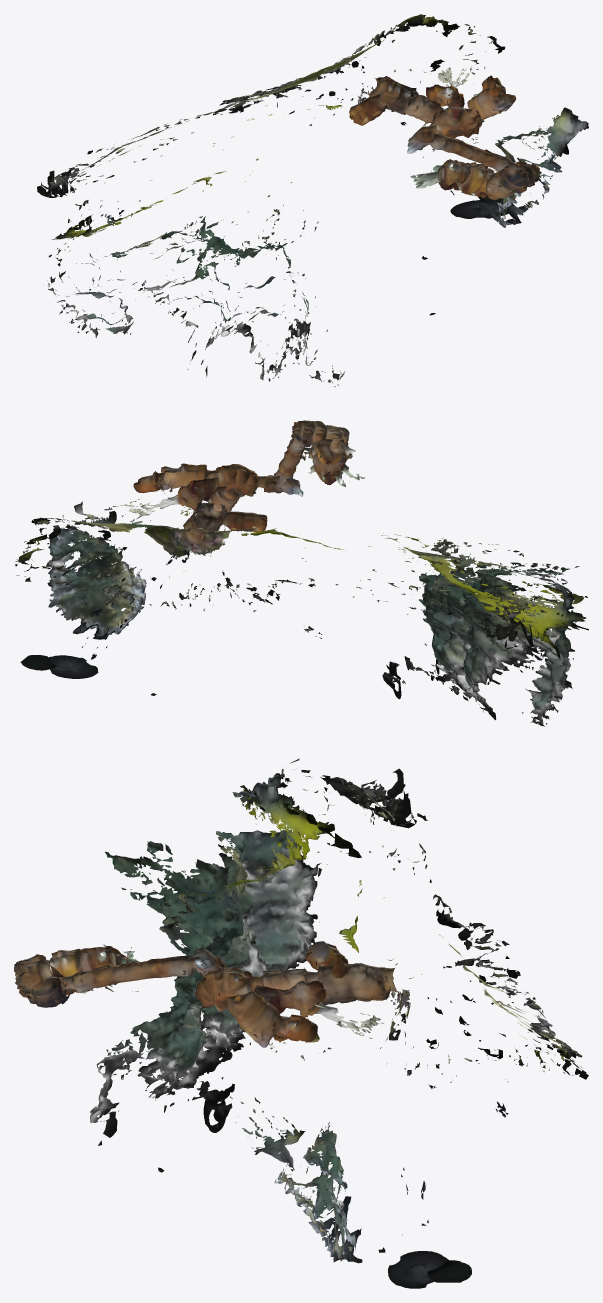
File: hobbit_stitched.glb
3 views of the same model, one above another, from view 1: azimuth 30°, elevation 25°; view 2: azimuth 150°, elevation 25°; view 3: azimuth 270°, elevation 25° (orthographic). The views are drawn at different scales.
Parts seen in each view (by area): view 1: hobbit3_scene_mesh_0.obj; view 2: hobbit3_scene_mesh_0.obj; view 3: hobbit3_scene_mesh_0.obj.
Boxes of the visible parts, x1=… form: hobbit3_scene_mesh_0.obj: x1=37, y1=14, x2=588, y2=387; hobbit3_scene_mesh_0.obj: x1=15, y1=420, x2=588, y2=726; hobbit3_scene_mesh_0.obj: x1=14, y1=758, x2=588, y2=1288.
Bounding box in the file's own units: 64.39 × 23.28 × 44.48.
